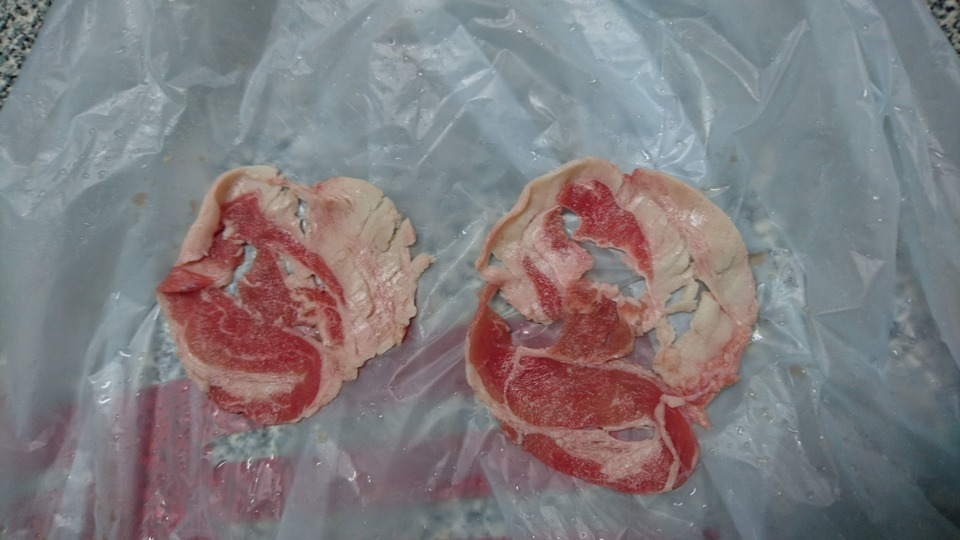restructured meat: (465, 155, 763, 489), (157, 166, 432, 433)
